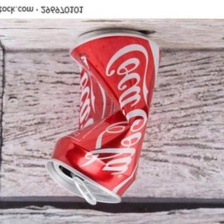can: (44, 26, 160, 207)
